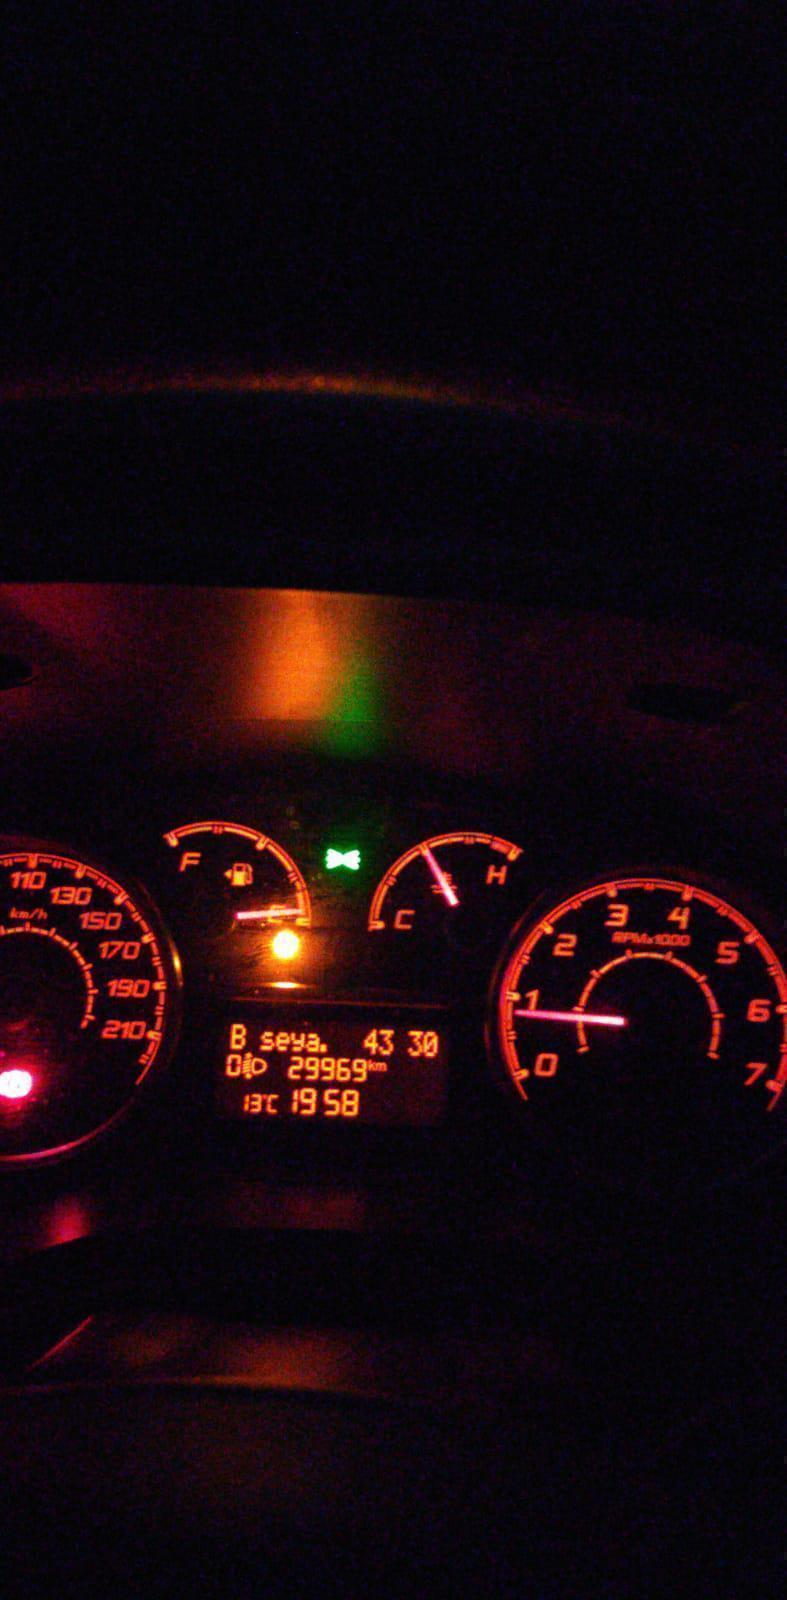,: (319, 1041, 329, 1052)
0: (423, 1029, 439, 1059), (224, 1052, 240, 1078)
1: (291, 1085, 298, 1118), (243, 1092, 249, 1115)
2: (287, 1054, 303, 1080)
3: (378, 1026, 394, 1059), (408, 1028, 422, 1058), (250, 1092, 261, 1114)
4: (360, 1027, 378, 1055)
5: (322, 1086, 340, 1117)
6: (336, 1055, 351, 1081)
8: (341, 1087, 361, 1117)
9: (300, 1085, 318, 1116), (352, 1057, 367, 1083), (319, 1055, 335, 1081), (304, 1053, 319, 1079)
X: (230, 1021, 247, 1050), (266, 1091, 281, 1117), (260, 1030, 274, 1052), (306, 1031, 319, 1053), (291, 1031, 304, 1052), (276, 1030, 289, 1050), (375, 1061, 388, 1071), (367, 1058, 376, 1072)
odometer: (222, 1019, 442, 1128)
